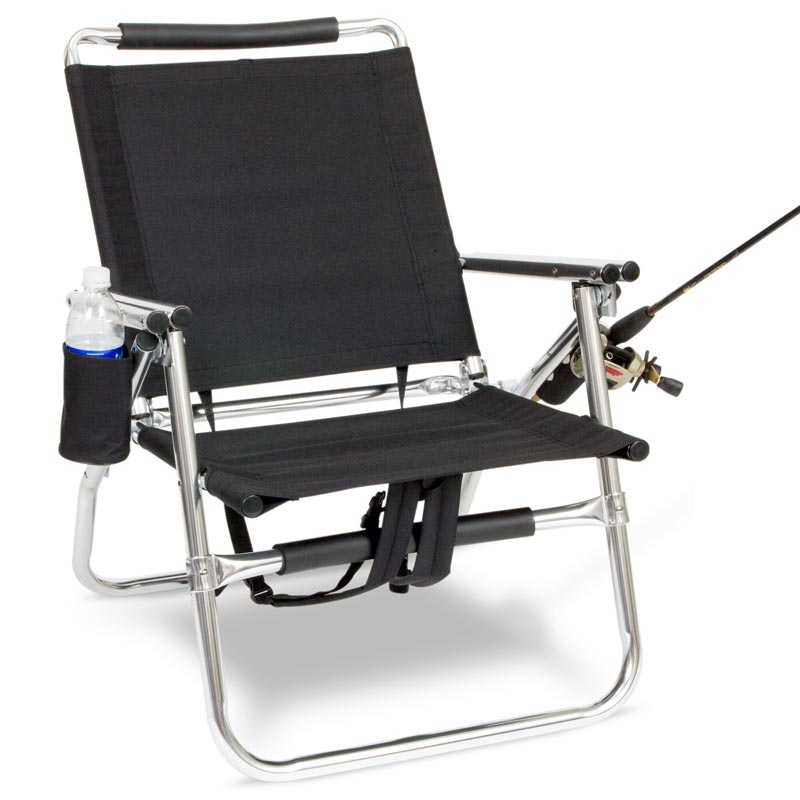chairs: (51, 16, 687, 788)
